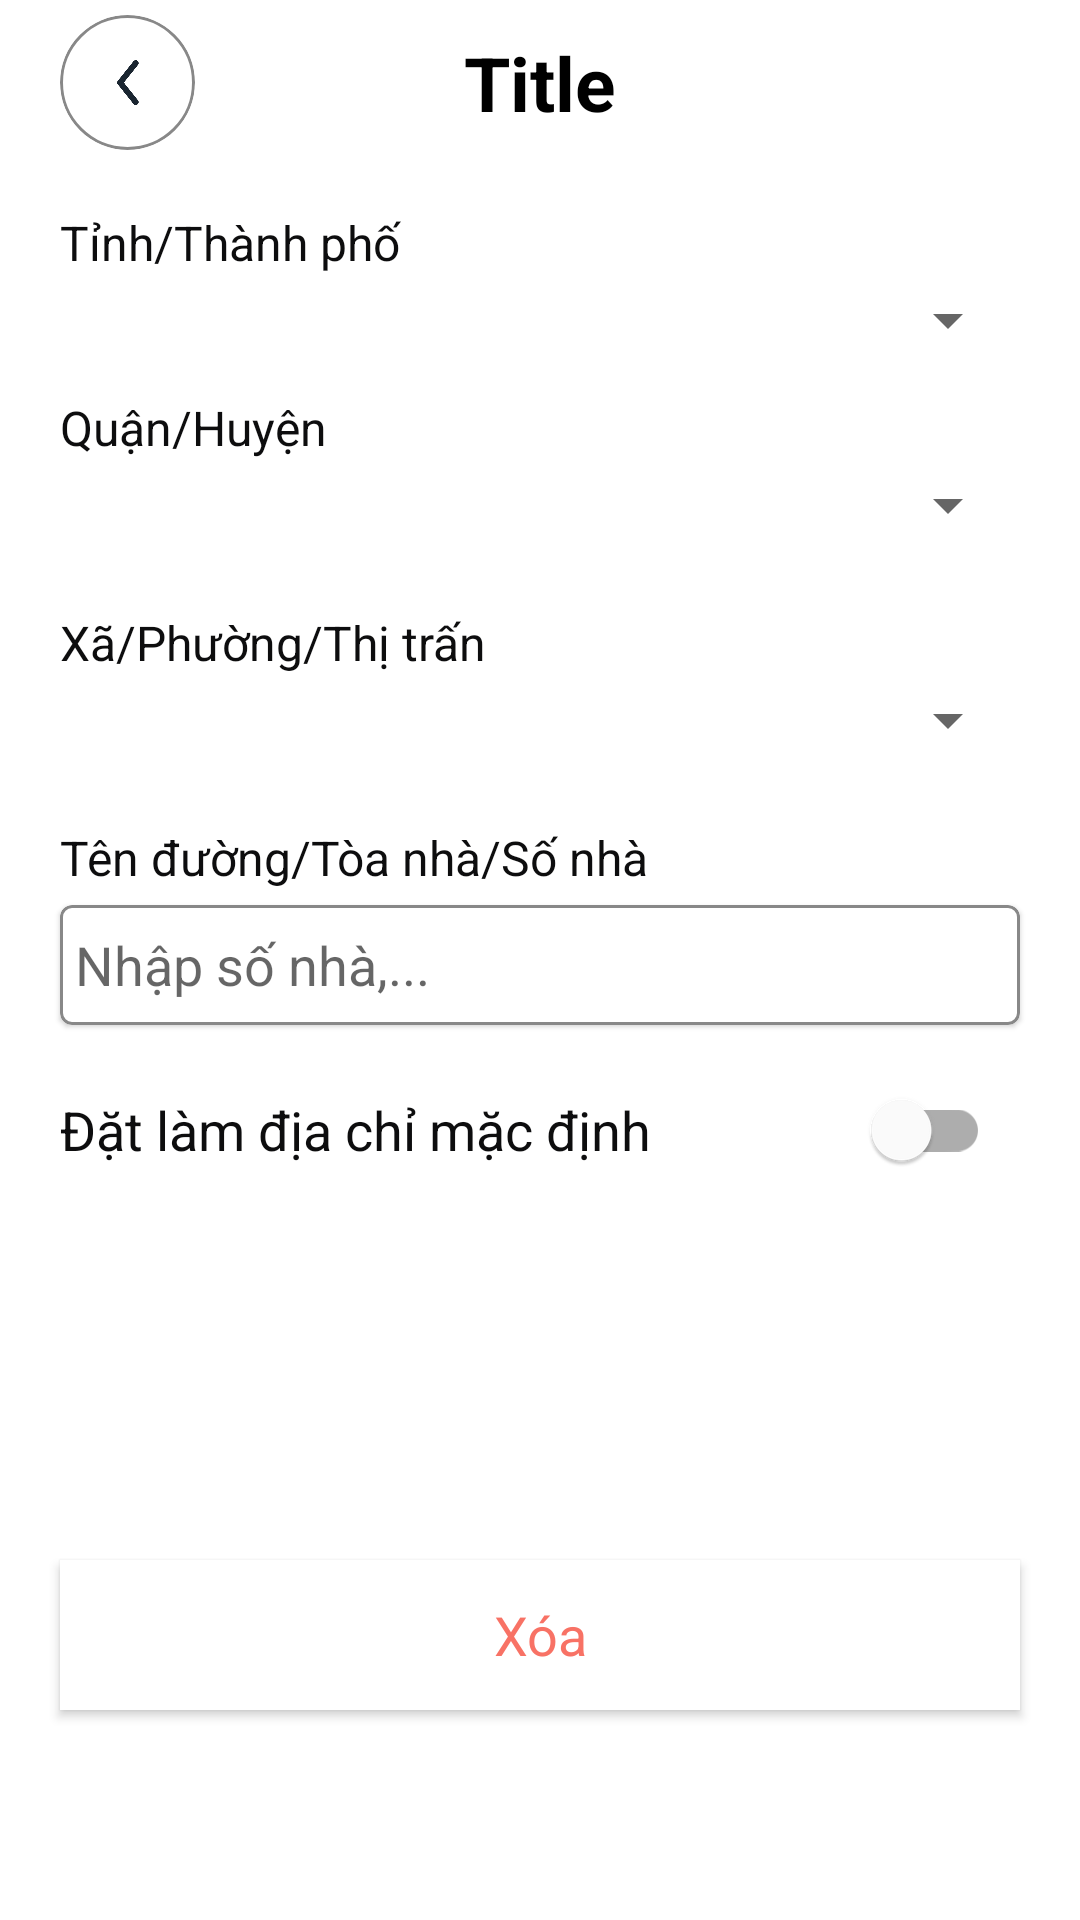

Named icons in this screenshot (1080px×1920px) and their centers, (x=x, y=y):
angle left: (x=127, y=82)
